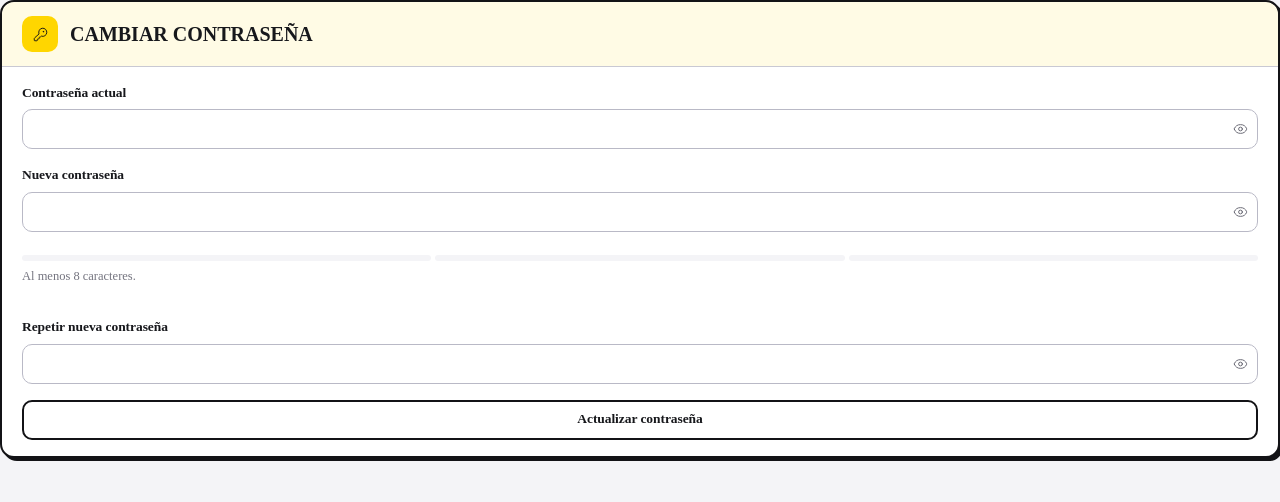
Test: ChangePasswordCard › blocks a new password equal to the current one inline
Type "claveActual123" into the password field labelled "Contraseña actual". click: (640, 129)
box: 22,109 -> 1258,149
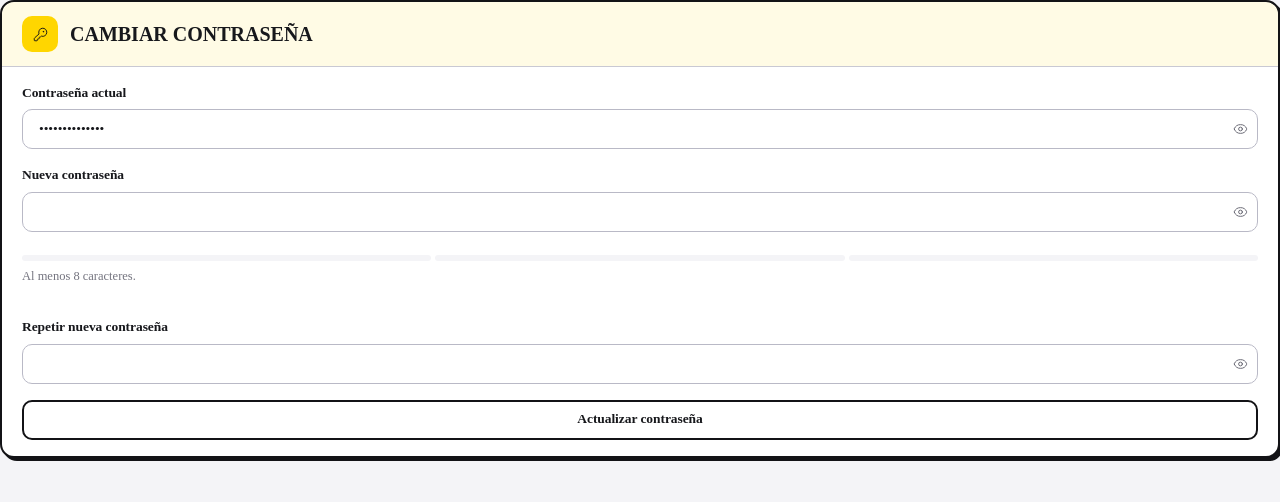
Type "claveActual123" into the password field labelled "Nueva contraseña". click: (640, 212)
box: 22,192 -> 1258,232
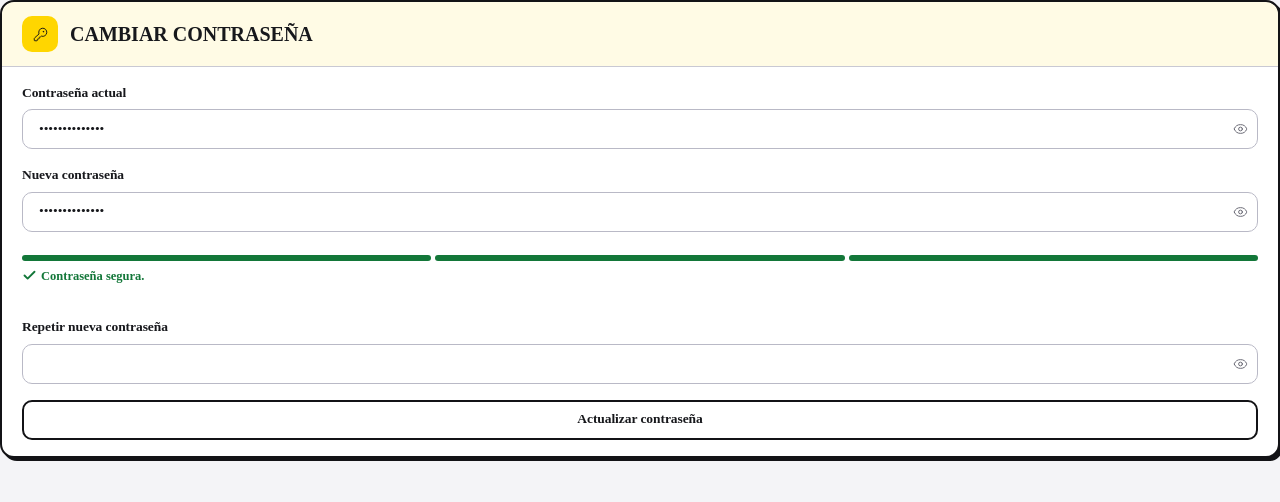
Type "claveActual123" into the password field labelled "Repetir nueva contraseña". click: (640, 364)
box: 22,344 -> 1258,384
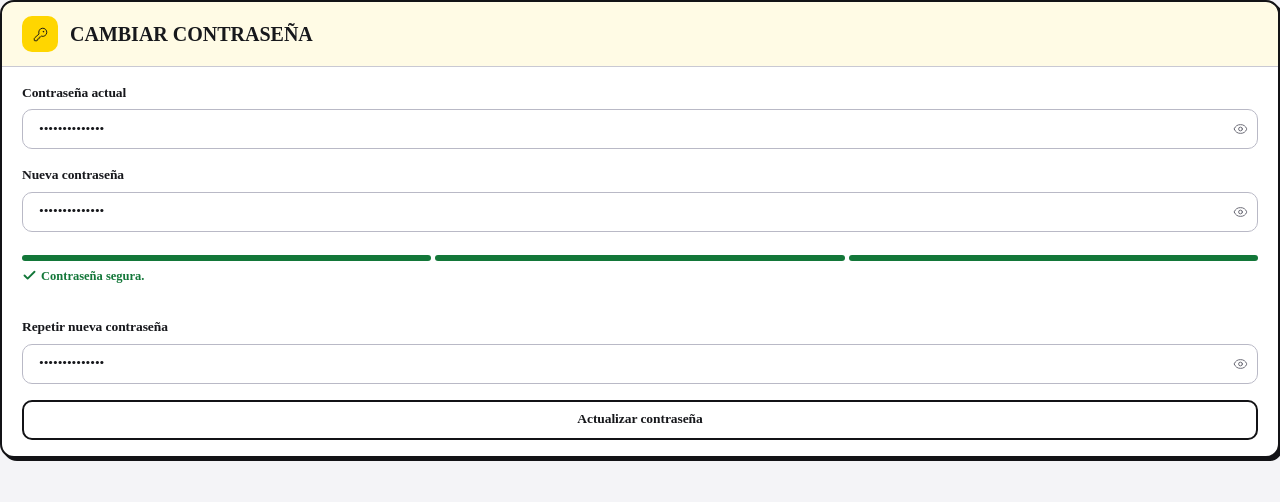
Click the button "Actualizar contraseña". click: (640, 420)
box: 22,400 -> 1258,440
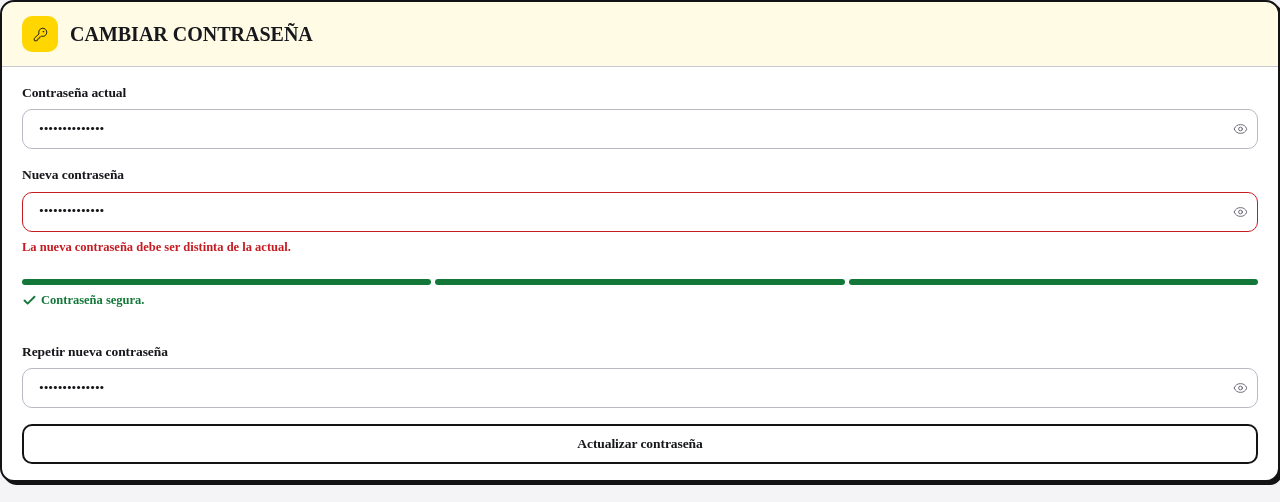
expect the text "La nueva contraseña debe ser distinta de la actual." is shown: met, box 22,240 -> 291,254
